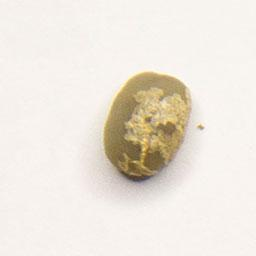peaberry: (101, 70, 195, 184)
